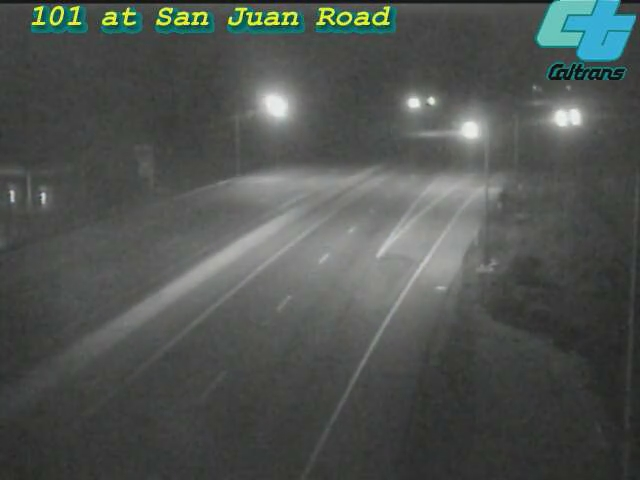vehicle: (444, 105, 494, 155), (536, 95, 586, 145), (548, 93, 598, 143)
